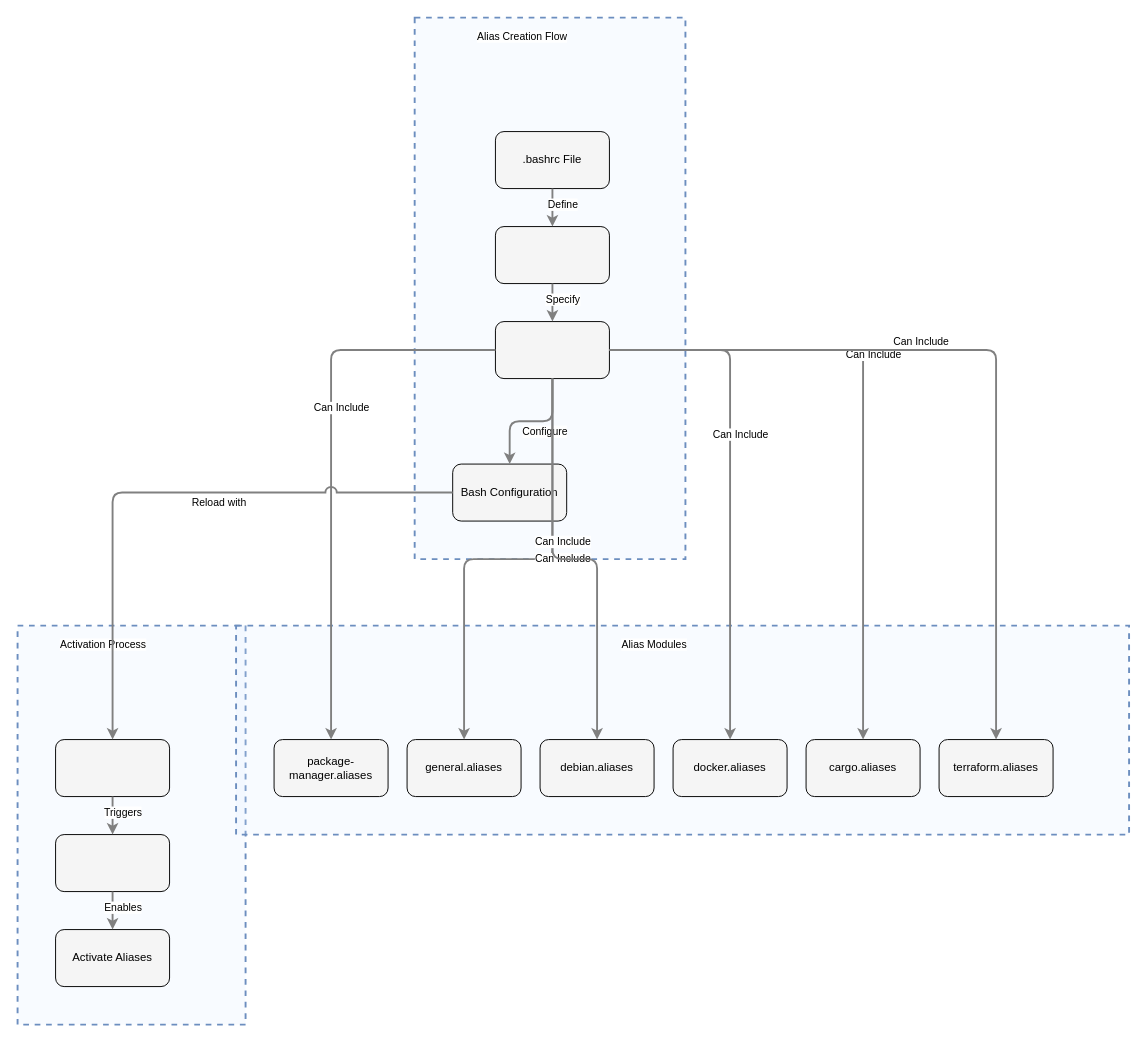
This 1146x1041 diagram has some shape labels left out. The shapes that lost their labels are listed below. From the top down, each one's centre as x and y in pixels, then its label:
the point at 551,255: aliases=(...) Array
the point at 551,350: Alias Module
the point at 112,768: source ~/.bashrc
the point at 112,863: Load Specified Modules
